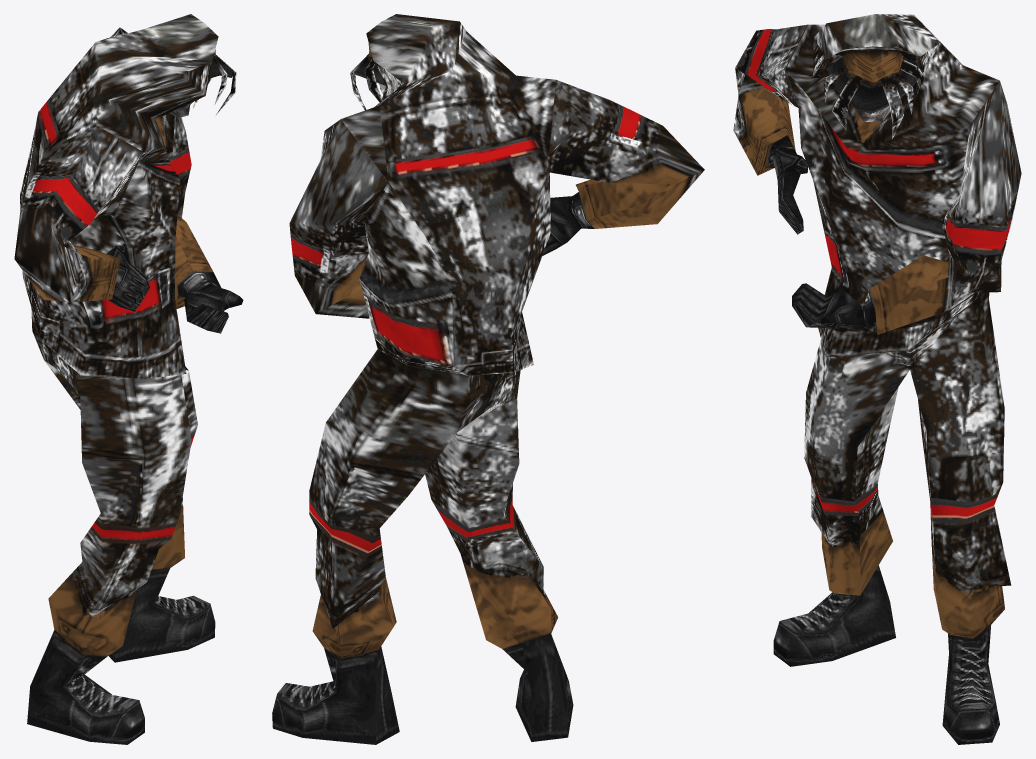
The model's file is sniper.glb.
The picture shows the model from 3 angles, left to right: view 1: azimuth 30°, elevation 25°; view 2: azimuth 150°, elevation 25°; view 3: azimuth 270°, elevation 25°; orthographic projection. The views are drawn at different scales.
Parts seen in each view (by area): view 1: sniper; view 2: sniper; view 3: sniper.
Boxes of the visible parts, box(x1,y1,x2,y2) form: sniper: box(14, 14, 243, 744); sniper: box(272, 14, 704, 744); sniper: box(733, 14, 1021, 744).
Bounding box in the file's own units: 31.99 × 66.57 × 25.57.
1 material, 1 textured.
